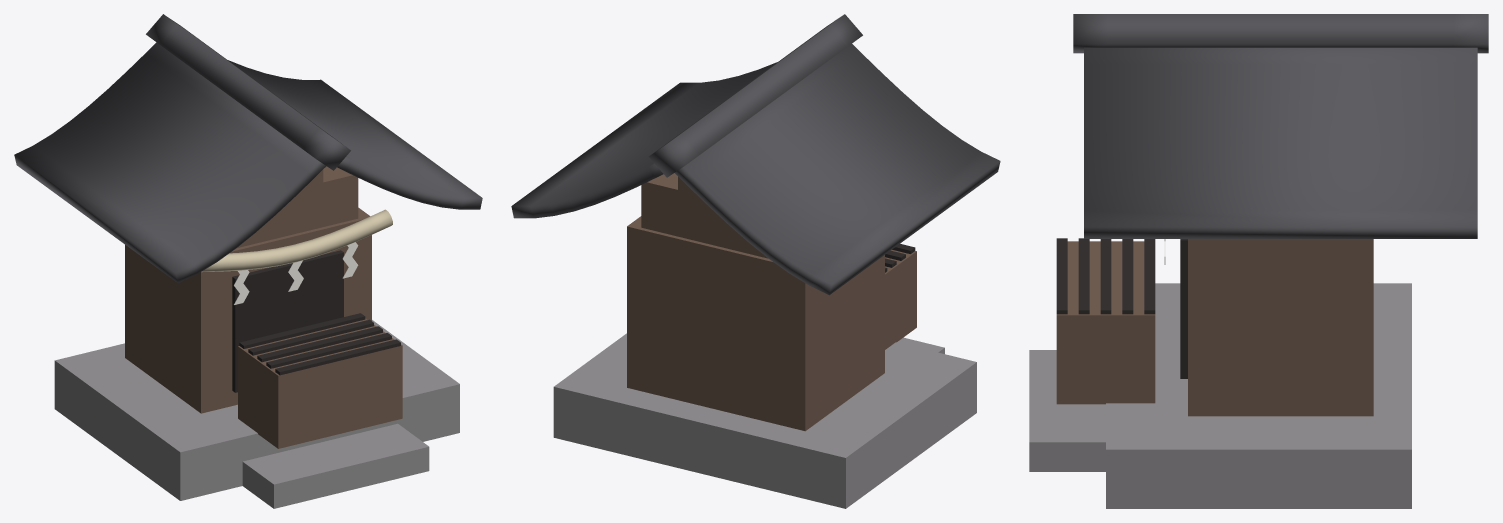
File: hokora.glb
3 views of the same model, side by side, from view 1: azimuth 30°, elevation 25°; view 2: azimuth 150°, elevation 25°; view 3: azimuth 270°, elevation 25° (orthographic). The views are drawn at different scales.
Parts seen in each view (by area): view 1: Hokora; view 2: Hokora; view 3: Hokora.
Boxes of the visible parts, x1=… form: Hokora: x1=14, y1=14, x2=482, y2=508; Hokora: x1=511, y1=14, x2=1000, y2=508; Hokora: x1=1029, y1=14, x2=1488, y2=508.
Size of the model in its own units: 1.98 by 2.08 by 2.1.
